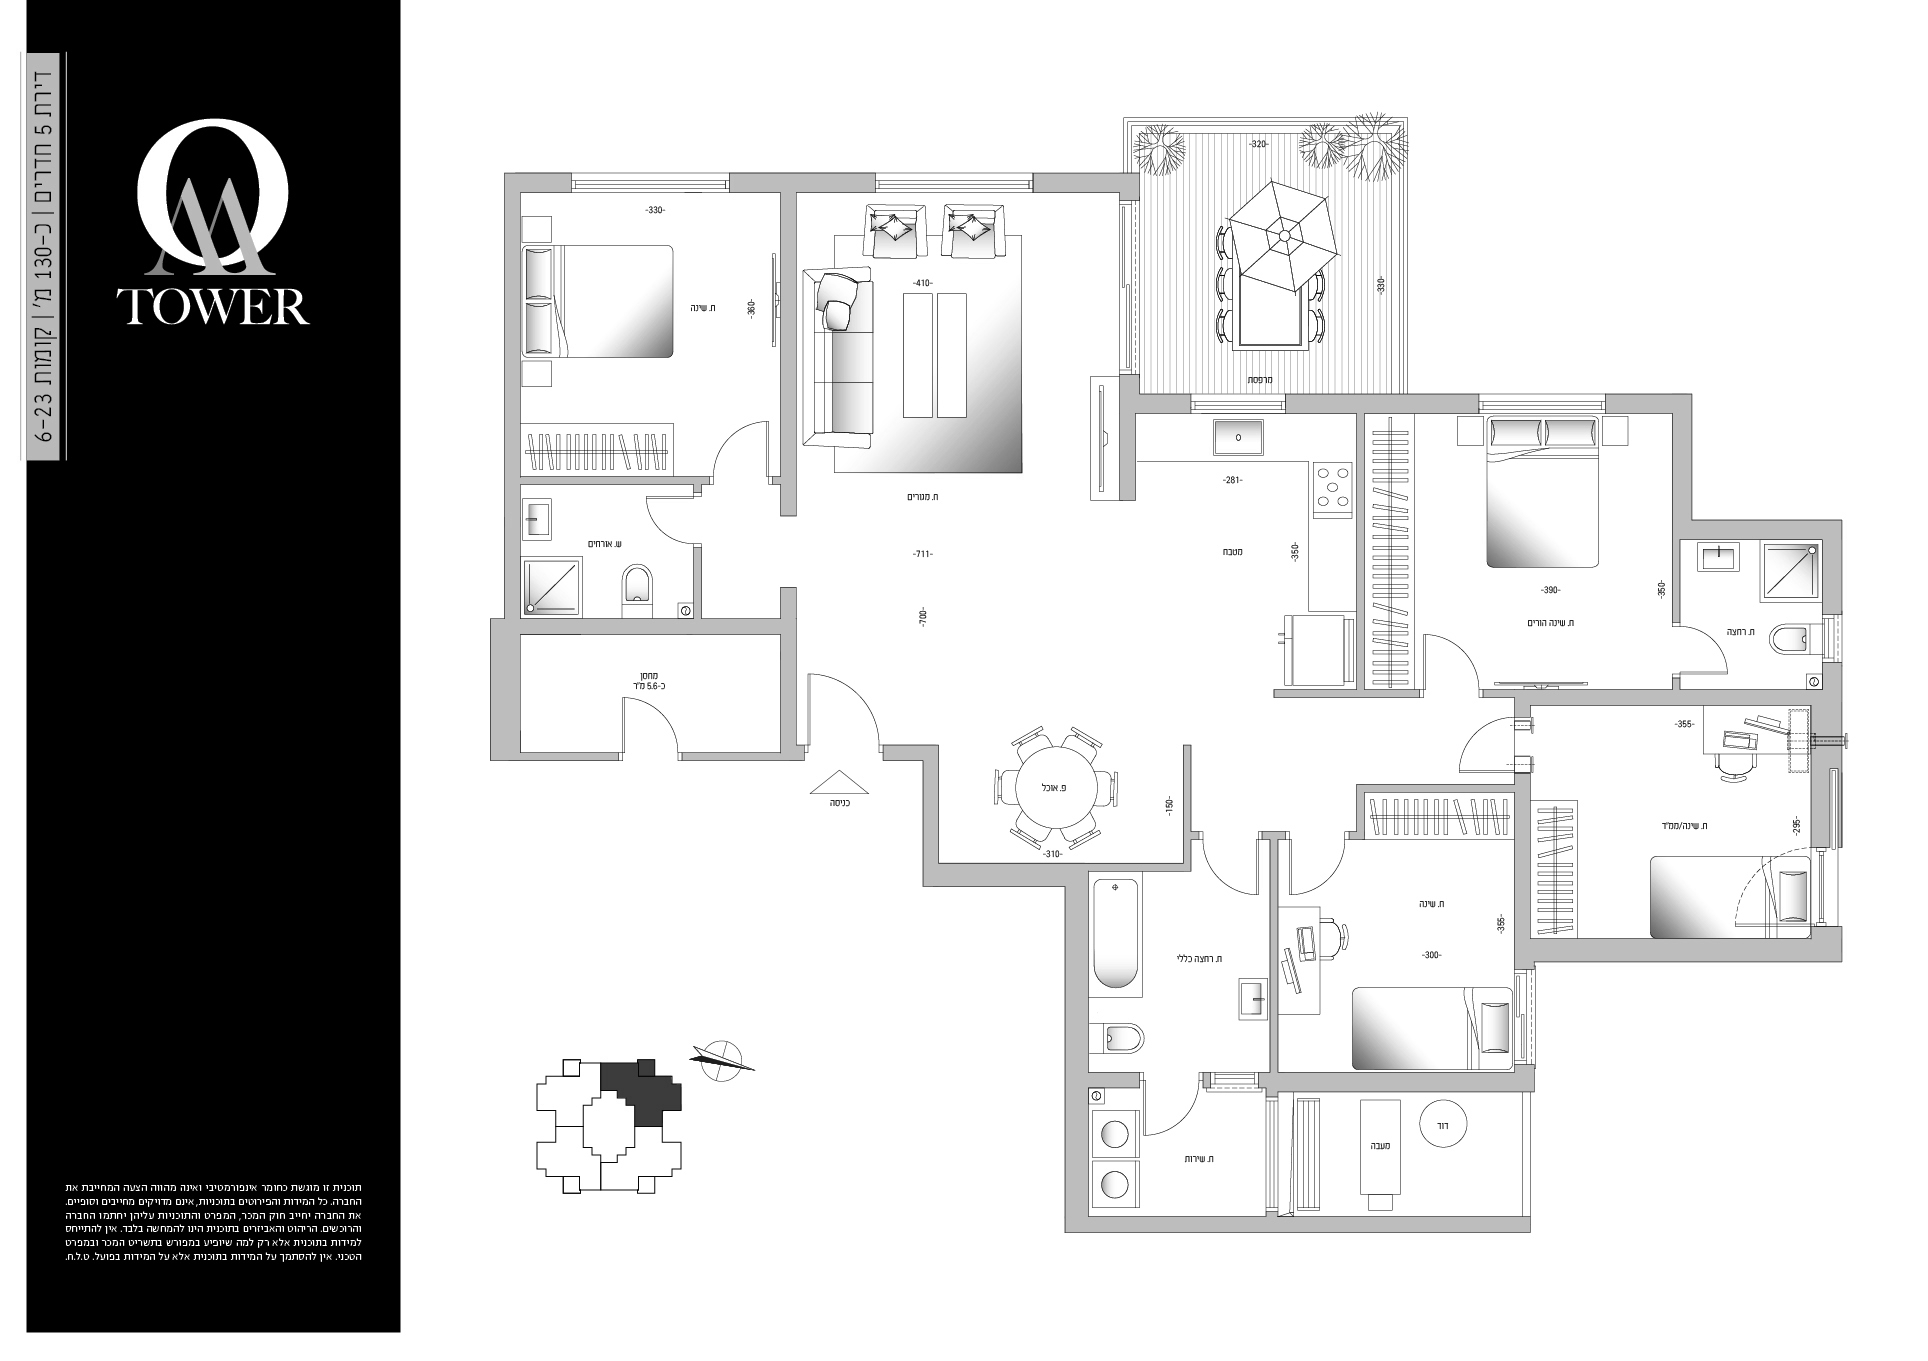window: (569, 171, 732, 197), (872, 169, 1035, 196), (1474, 392, 1605, 417), (1187, 392, 1287, 415), (1208, 1069, 1264, 1094), (1819, 611, 1843, 664)
